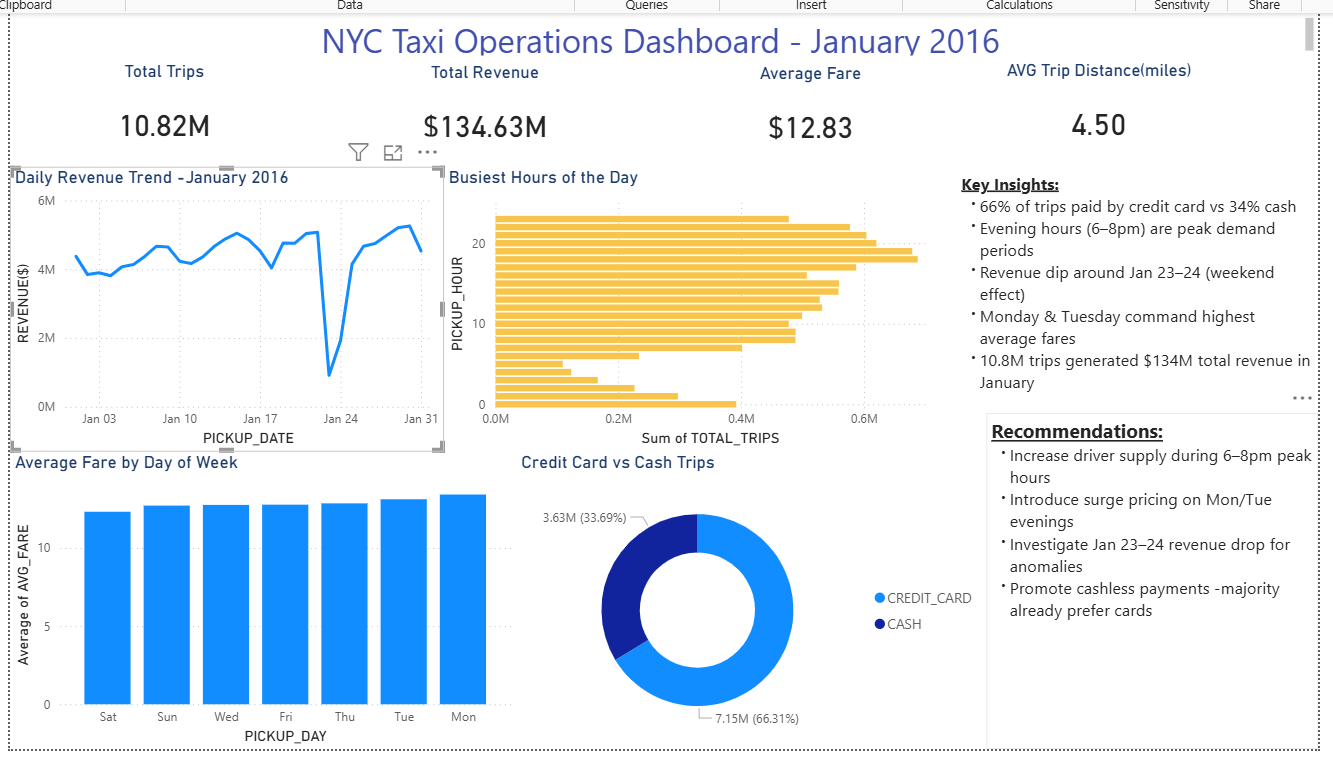

What the dashboard file says about the page in this screenshot:
{"tool":"powerbi","page":{"name":"Page 1","canvas":[1280,720],"ordinal":0},"visuals":[{"type":"textbox","box":[0,0,1280.3,46.5],"z":0},{"type":"lineChart","title":" Daily Revenue Trend -January 2016","fields":{"Y":["Sum(MART_DAILY_SUMMARY.TOTAL_REVENUE)"],"Category":["MART_DAILY_SUMMARY.PICKUP_DATE"]},"box":[0,150.4,424.3,278.8],"z":1},{"type":"clusteredBarChart","title":"Busiest Hours of the Day","fields":{"Category":["MART_DAILY_SUMMARY.PICKUP_HOUR"],"Y":["Sum(MART_DAILY_SUMMARY.TOTAL_TRIPS)"]},"box":[424.3,150.4,490.4,278.8],"z":2},{"type":"clusteredColumnChart","title":"Average Fare by Day of Week","fields":{"Category":["MART_DAILY_SUMMARY.PICKUP_DAY"],"Y":["Avg(MART_DAILY_SUMMARY.AVG_FARE)"]},"box":[0,429.2,495.2,291],"z":3},{"type":"card","title":"Total Trips","fields":{"Values":["Sum(MART_DAILY_SUMMARY.TOTAL_TRIPS)"]},"box":[0,46.5,302,103.9],"z":4},{"type":"card","title":"Total Revenue","fields":{"Values":["Sum(MART_DAILY_SUMMARY.TOTAL_REVENUE)"]},"box":[302,47.7,325.3,105.2],"z":5},{"type":"card","title":"Average Fare","fields":{"Values":["Avg(MART_DAILY_SUMMARY.AVG_FARE)"]},"box":[640.8,48.9,284.9,103.9],"z":6},{"type":"card","title":"AVG Trip Distance(miles)","fields":{"Values":["Avg(MART_DAILY_SUMMARY.AVG_DISTANCE_MILES)"]},"box":[925.7,45.2,278.8,105.2],"z":7},{"type":"donutChart","title":"Credit Card vs Cash Trips","fields":{"Y":["Sum(MART_DAILY_SUMMARY.CREDIT_CARD_TRIPS)","Sum(MART_DAILY_SUMMARY.CASH_TRIPS)"]},"box":[495.2,429.2,459.8,291],"z":8},{"type":"textbox","box":[925.7,150.4,354.6,232.3],"z":9},{"type":"textbox","box":[955,391.3,325.3,328.9],"z":10}]}

Visuals, with their boxes on the page's 1280x720 design canvas (x1, y1, x2, y2). These are canvas units, not pixel positions in the 1333x758 screenshot, which may show the page scaled, cropped or inside an application window:
textbox: 0 0 1280 46
" Daily Revenue Trend -January 2016" lineChart: 0 150 424 429
"Busiest Hours of the Day" clusteredBarChart: 424 150 915 429
"Average Fare by Day of Week" clusteredColumnChart: 0 429 495 720
"Total Trips" card: 0 46 302 150
"Total Revenue" card: 302 48 627 153
"Average Fare" card: 641 49 926 153
"AVG Trip Distance(miles)" card: 926 45 1204 150
"Credit Card vs Cash Trips" donutChart: 495 429 955 720
textbox: 926 150 1280 383
textbox: 955 391 1280 720
